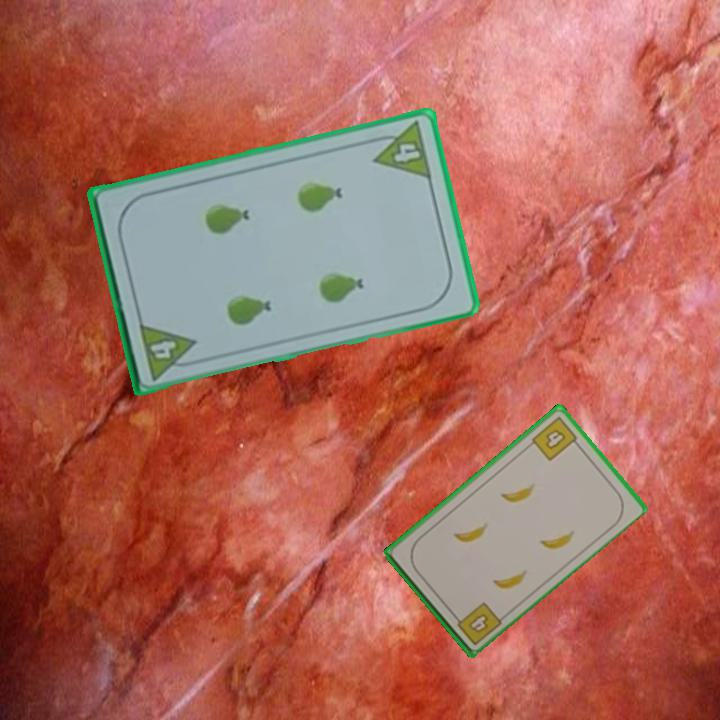4b: (528, 413, 583, 464), (449, 598, 504, 648)
4p: (366, 118, 435, 182), (136, 319, 202, 383)
